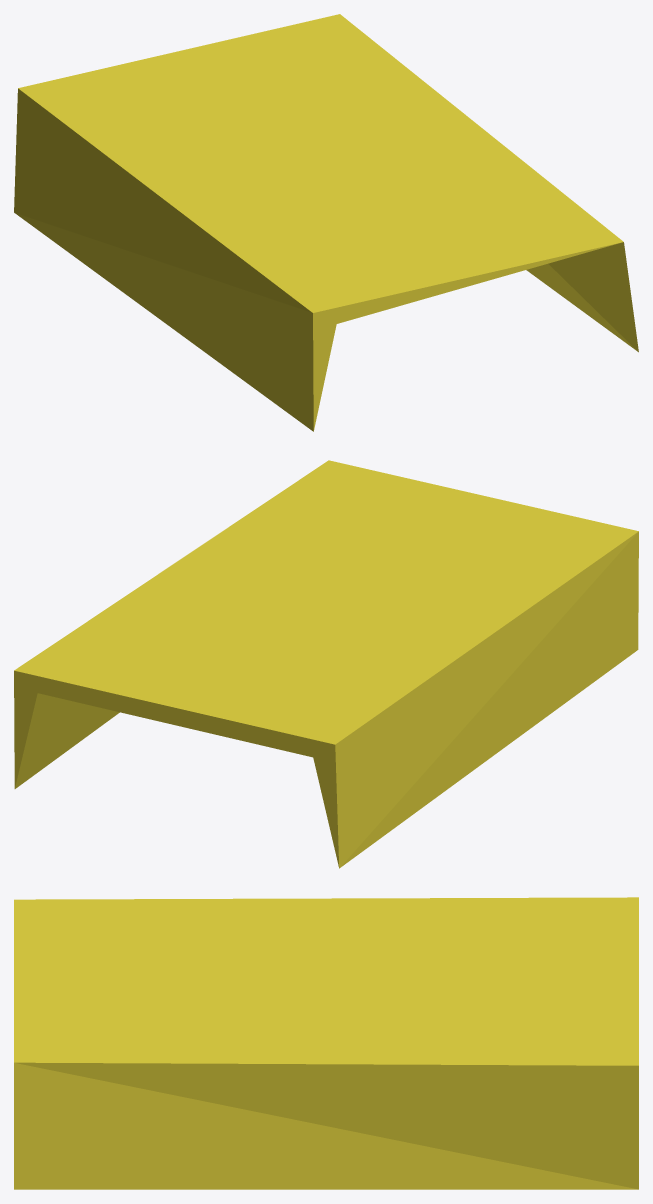
File: ArrayTelha.Low.fbx
The picture shows the model from 3 angles, top to bottom: view 1: azimuth 30°, elevation 25°; view 2: azimuth 150°, elevation 25°; view 3: azimuth 270°, elevation 25°; orthographic projection. The views are drawn at different scales.
Parts seen in each view (by area): view 1: ArrayTelha.Low; view 2: ArrayTelha.Low; view 3: ArrayTelha.Low.
Part boxes in pixels (<box>): ArrayTelha.Low: <box>14,14,638,431</box>; ArrayTelha.Low: <box>14,460,638,868</box>; ArrayTelha.Low: <box>14,897,638,1189</box>.
Bounding box in the file's own units: 41.7 × 15.04 × 66.25.
